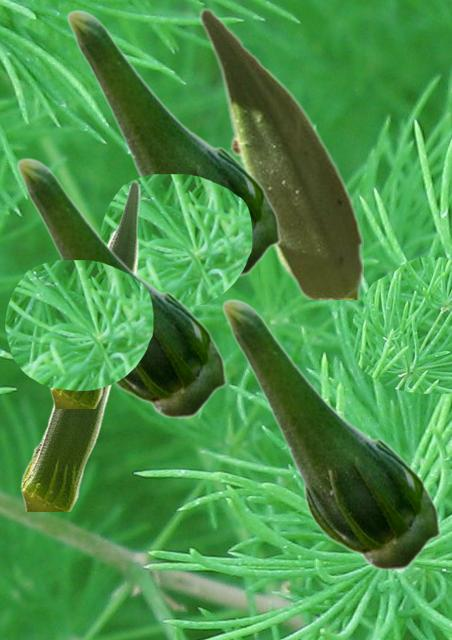okra: (221, 298, 440, 570), (66, 9, 280, 276), (16, 157, 226, 418), (198, 6, 362, 298), (49, 179, 139, 407), (20, 385, 112, 510)
